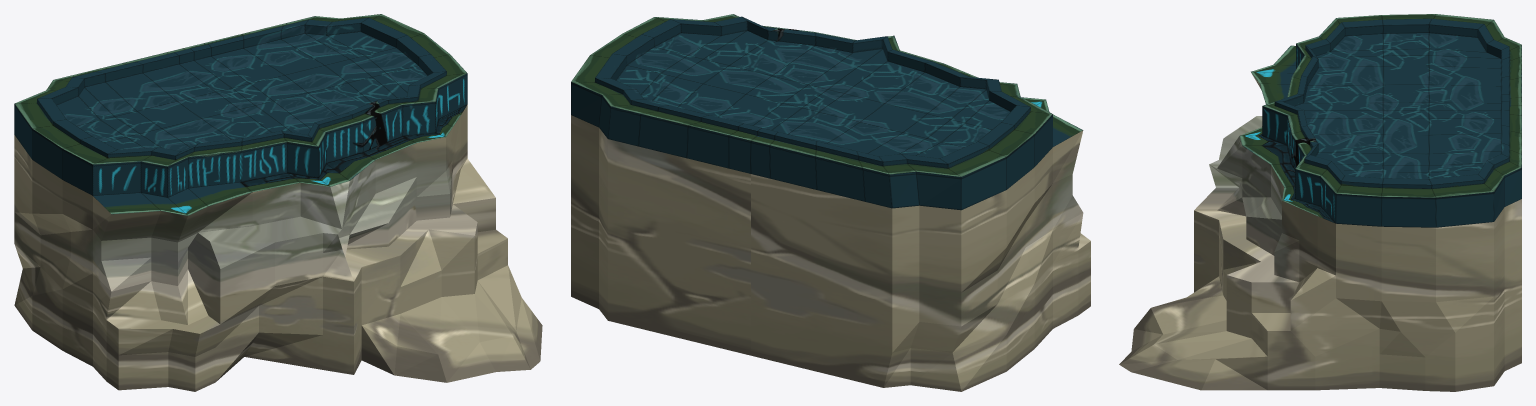
File: test_brokenStairs.fbx
The picture shows the model from 3 angles, left to right: view 1: azimuth 30°, elevation 25°; view 2: azimuth 150°, elevation 25°; view 3: azimuth 270°, elevation 25°; orthographic projection. The views are drawn at different scales.
Visible parts, largest first — view 1: round_staircase4; view 2: round_staircase4; view 3: round_staircase4.
Part boxes in pixels (<box>): round_staircase4: <box>14,14,542,391</box>; round_staircase4: <box>571,14,1090,391</box>; round_staircase4: <box>1119,14,1521,391</box>.
Size of the model in its own units: 4.2 by 2.11 by 3.89.
